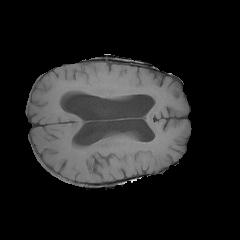glioma: (57, 78, 159, 100)
